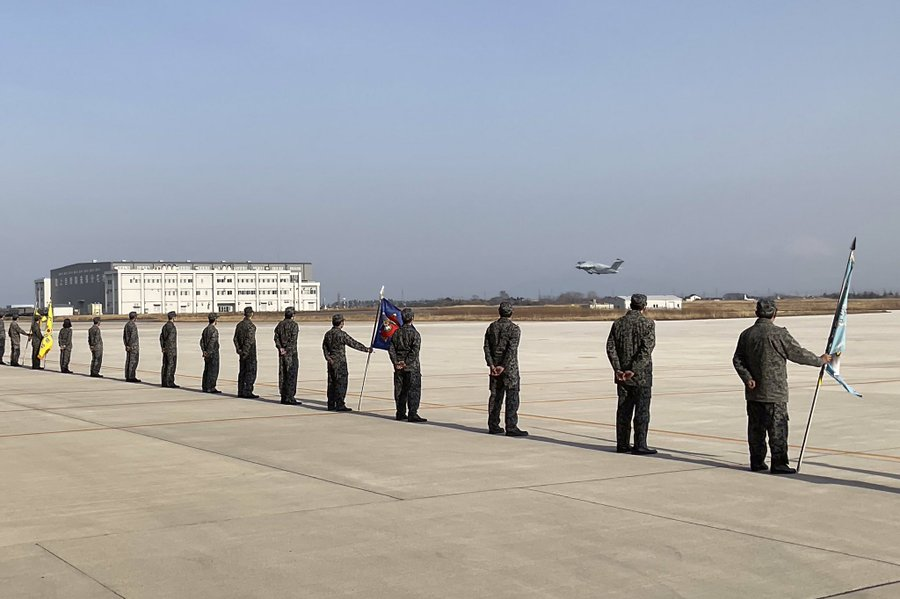airplane: (574, 257, 631, 275)
